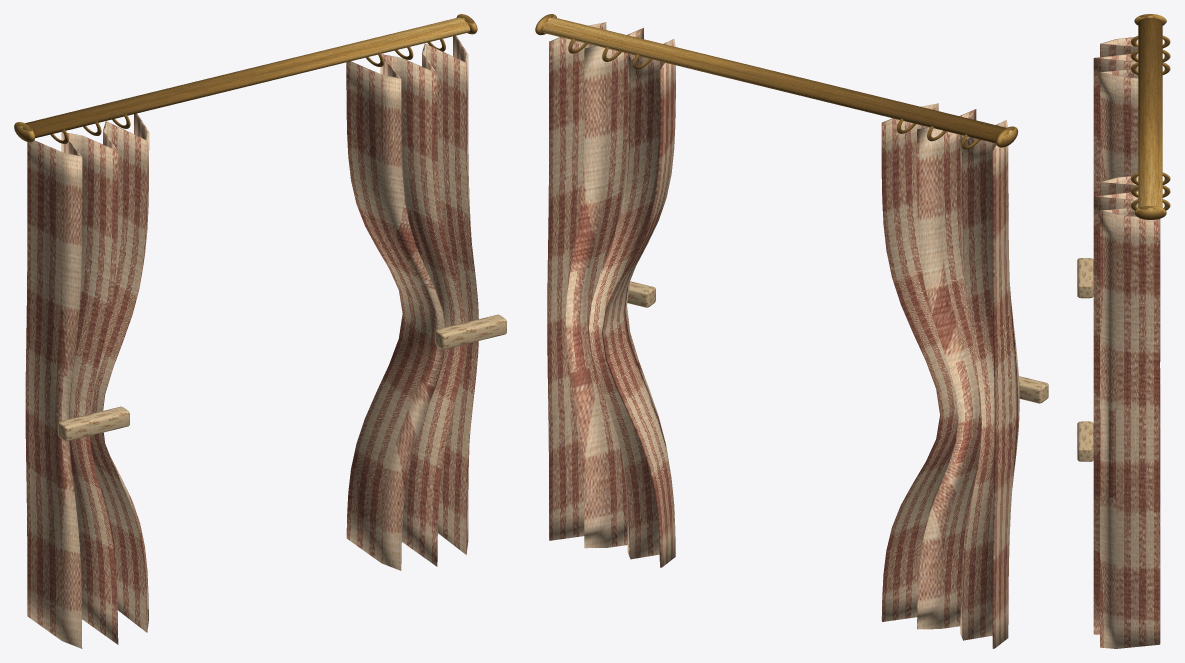
File: SM_MoleControlV2_CurtainFrame.fbx
The picture shows the model from 3 angles, left to right: view 1: azimuth 30°, elevation 25°; view 2: azimuth 150°, elevation 25°; view 3: azimuth 270°, elevation 25°; orthographic projection. The views are drawn at different scales.
Visible parts, largest first — view 1: SM_MoleControlV2_CurtainFrame; view 2: SM_MoleControlV2_CurtainFrame; view 3: SM_MoleControlV2_CurtainFrame.
Part boxes in pixels (bbox=[...]): SM_MoleControlV2_CurtainFrame: bbox=[14, 14, 506, 648]; SM_MoleControlV2_CurtainFrame: bbox=[535, 14, 1048, 648]; SM_MoleControlV2_CurtainFrame: bbox=[1077, 14, 1170, 648].
Size of what is drawn, in the model's own units: 125 by 25 by 135.
